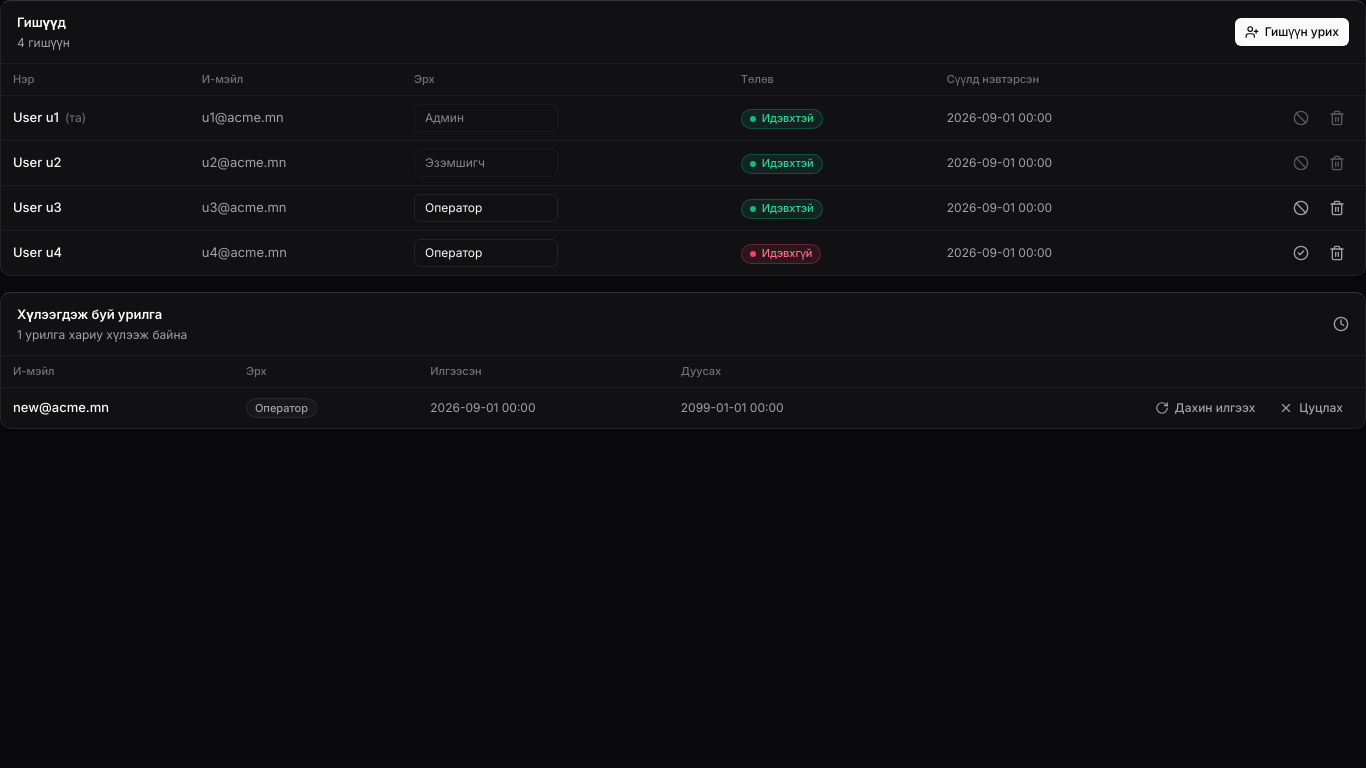
Scenario: MembersTab › removes a member after confirmation
This screenshot has width=1366, height=768.
Step 1. Click the button named "u3@acme.mn хасах" → [1337, 208], box [1321,192,1353,224]
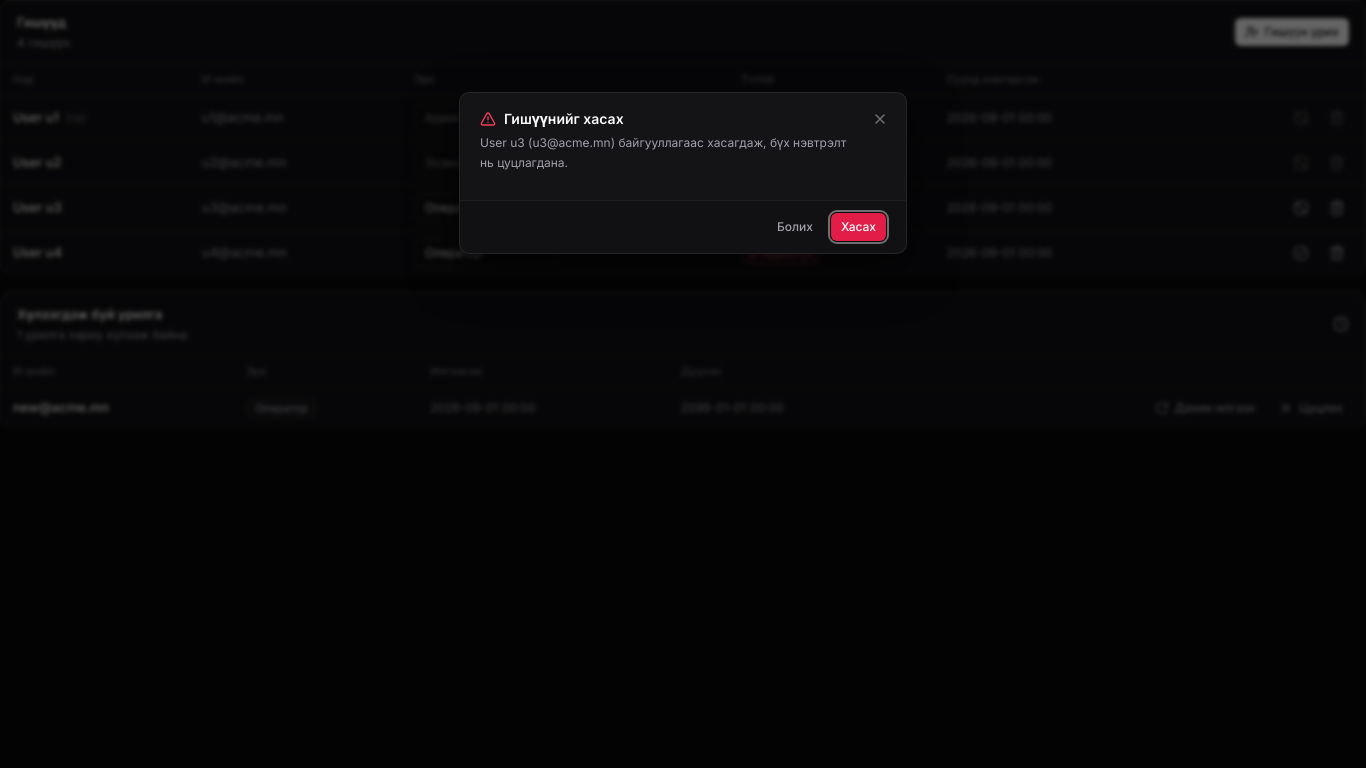
Step 2. Click the button "Хасах" → [858, 227], box [831,213,886,241]
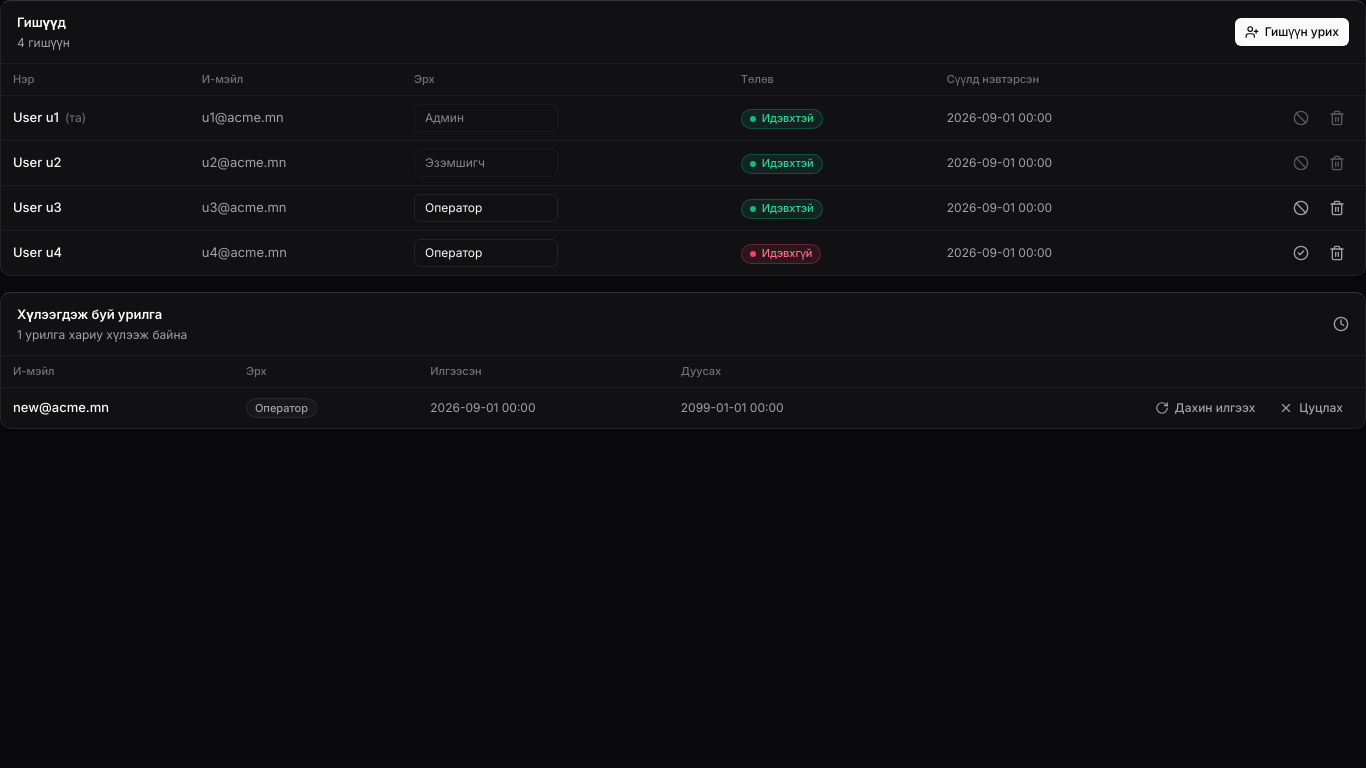
Now the dialog is gone
